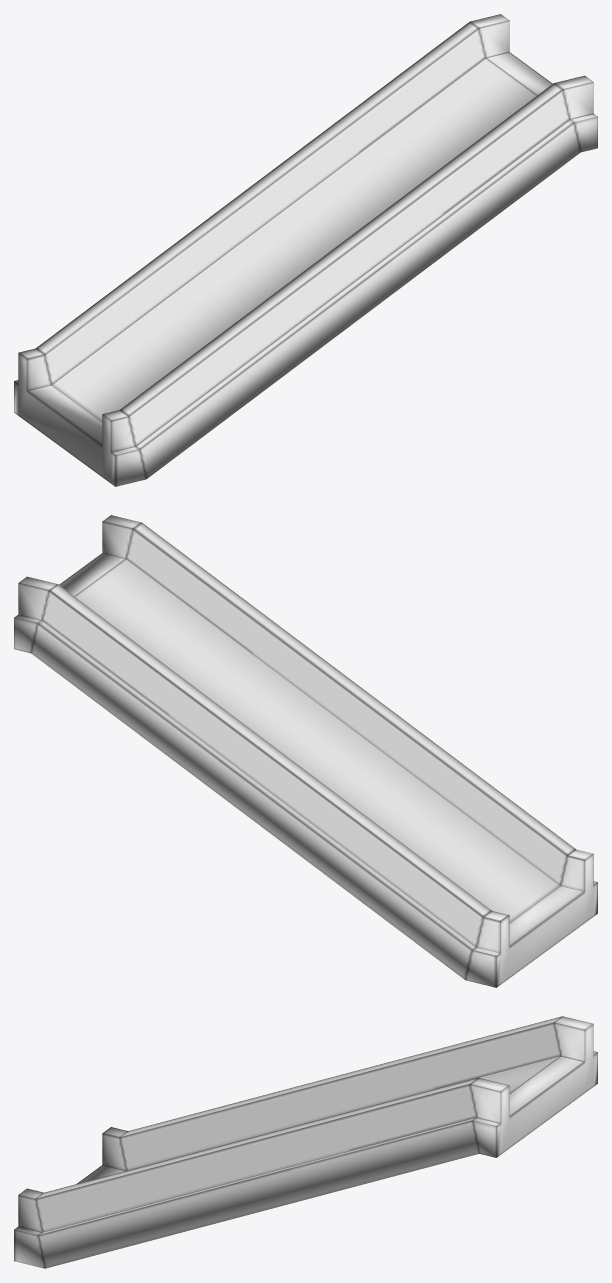
Rendered from Bridge-04.fbx.
3 renders of one model, top to bottom at view 1: azimuth 30°, elevation 25°; view 2: azimuth 150°, elevation 25°; view 3: azimuth 330°, elevation 25°, orthographic.
Visible parts, largest first — view 1: Bridge-04; view 2: Bridge-04; view 3: Bridge-04.
Boxes of the visible parts, <box> form: Bridge-04: <box>14,14,597,486</box>; Bridge-04: <box>14,515,597,987</box>; Bridge-04: <box>14,1016,597,1268</box>.
Bounding box in the file's own units: 2 × 1.12 × 0.7285.
